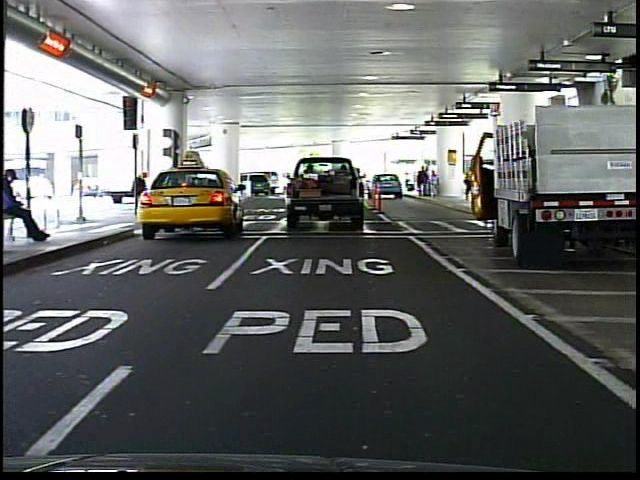person: (9, 165, 57, 245), (131, 165, 154, 220)
